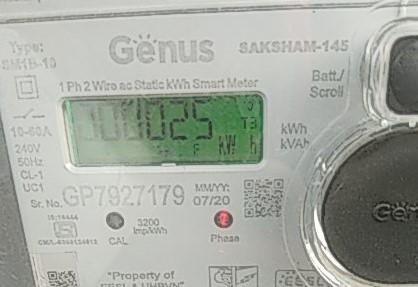.: (215, 130, 261, 160)
0: (185, 135, 201, 144)
1: (72, 102, 98, 144), (143, 99, 166, 143), (118, 101, 142, 143), (98, 101, 121, 144)
3: (192, 94, 220, 140), (168, 99, 192, 143)
